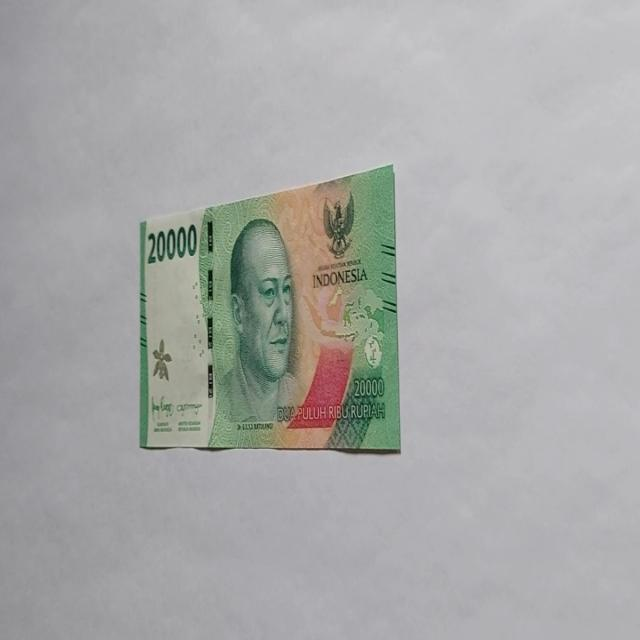dua puluh ribu rupiah: (138, 162, 401, 454), (207, 215, 306, 448)
